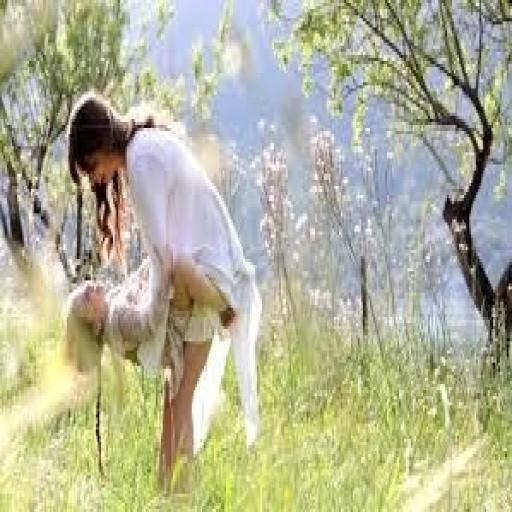hugging: (64, 88, 266, 494)
